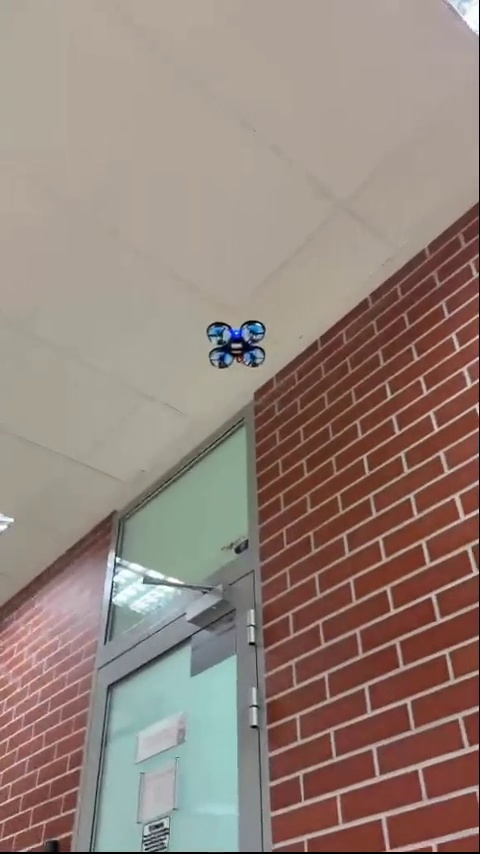drone: (207, 322, 267, 367)
